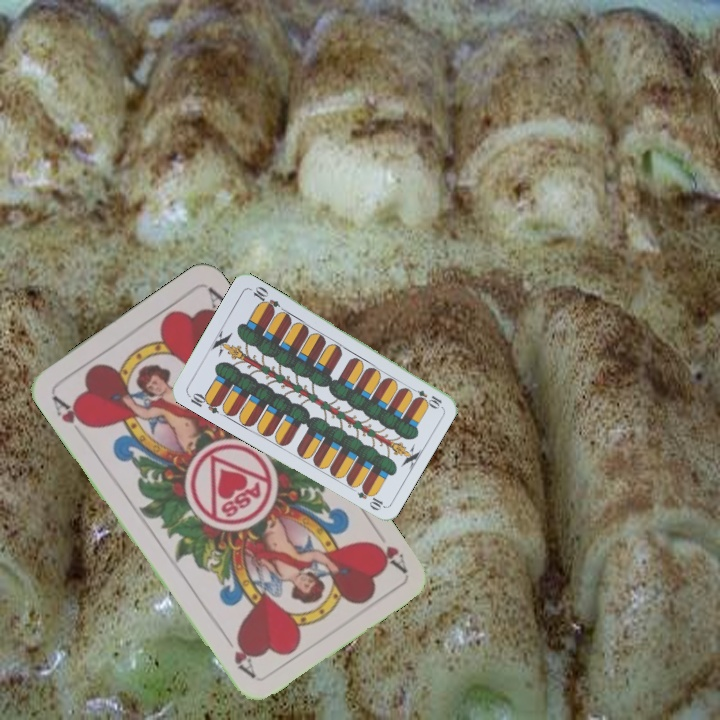E10: (184, 388, 223, 416), (406, 383, 444, 410)
HA: (363, 523, 409, 575), (48, 391, 94, 432)
